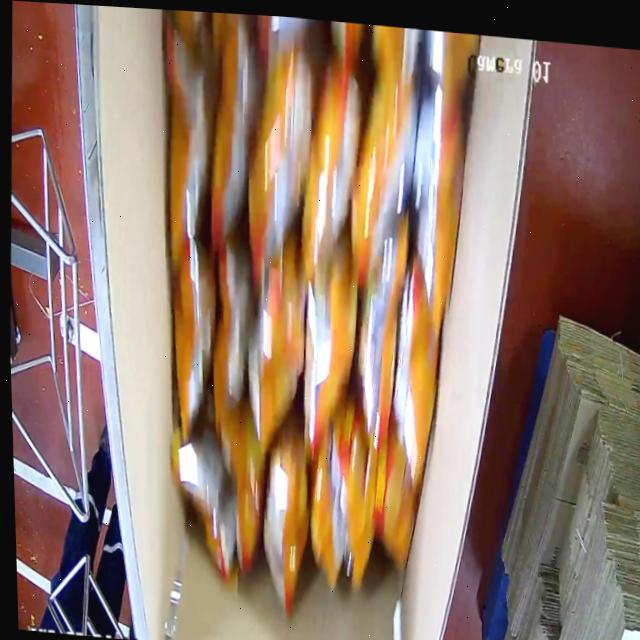FRENCH_CHEESE: (148, 9, 491, 631)
